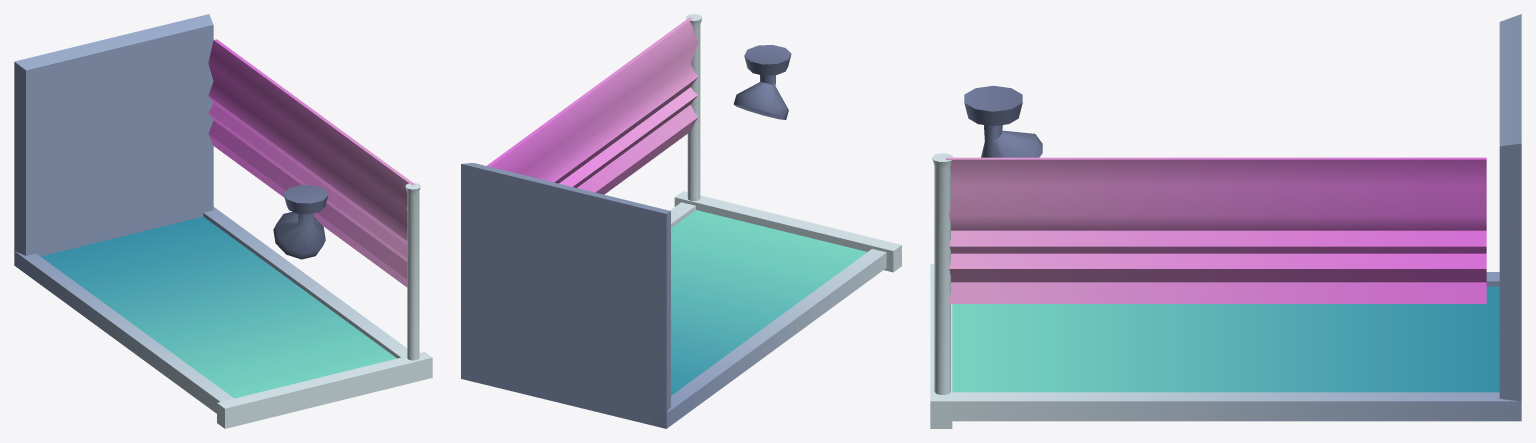
The model's file is Shower.fbx.
3 views of the same model, side by side, from view 1: azimuth 30°, elevation 25°; view 2: azimuth 150°, elevation 25°; view 3: azimuth 270°, elevation 25° (orthographic). The views are drawn at different scales.
Visible parts, largest first — view 1: Shower; view 2: Shower; view 3: Shower.
Part boxes in pixels (box(x1,y1,x2,y2)): Shower: box(14, 14, 432, 428); Shower: box(461, 14, 901, 428); Shower: box(930, 14, 1521, 428).
Bounding box in the file's own units: 149 × 142 × 270.
